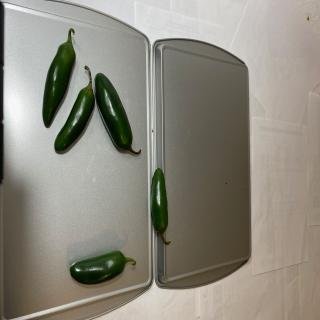Tomato: (94, 72, 141, 155), (54, 65, 95, 152), (42, 28, 76, 128), (70, 250, 136, 285), (150, 167, 170, 245)
